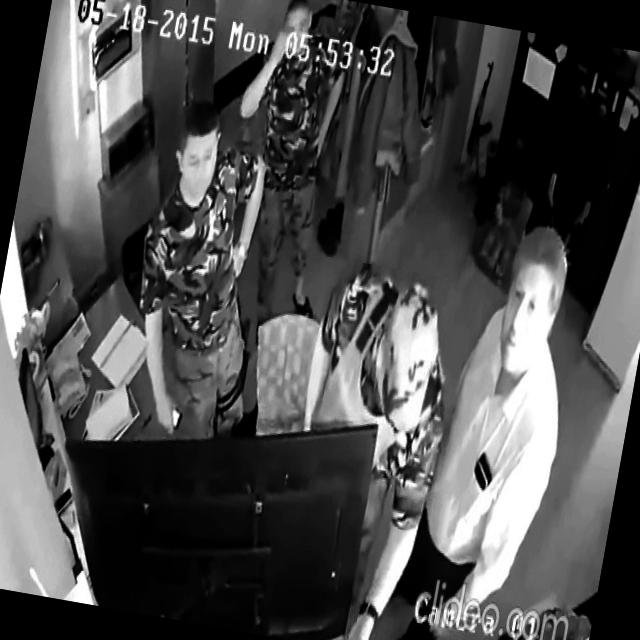gun: (454, 55, 504, 196)
person: (380, 207, 597, 640), (261, 256, 469, 640), (110, 90, 296, 453), (203, 0, 370, 326)
